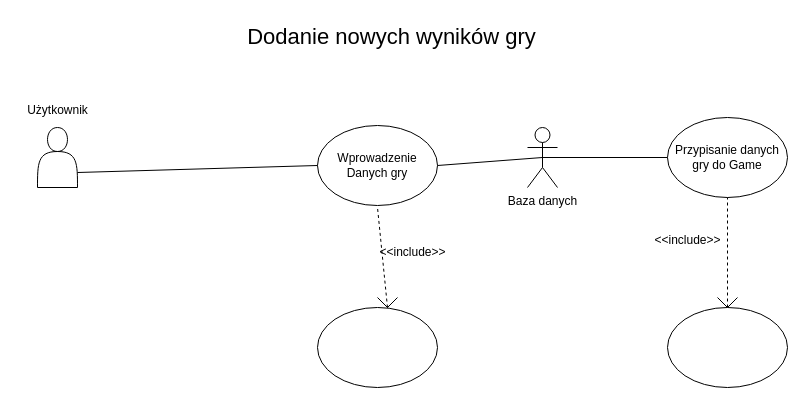
Some shapes in this 805 by 405 pixel diagram are drawn without their labels. Each missing label, with the centre of its shape:
"Autoryzacja" goes at point (377, 347).
"Wypisanie wyników gry w game list" goes at point (727, 347).
